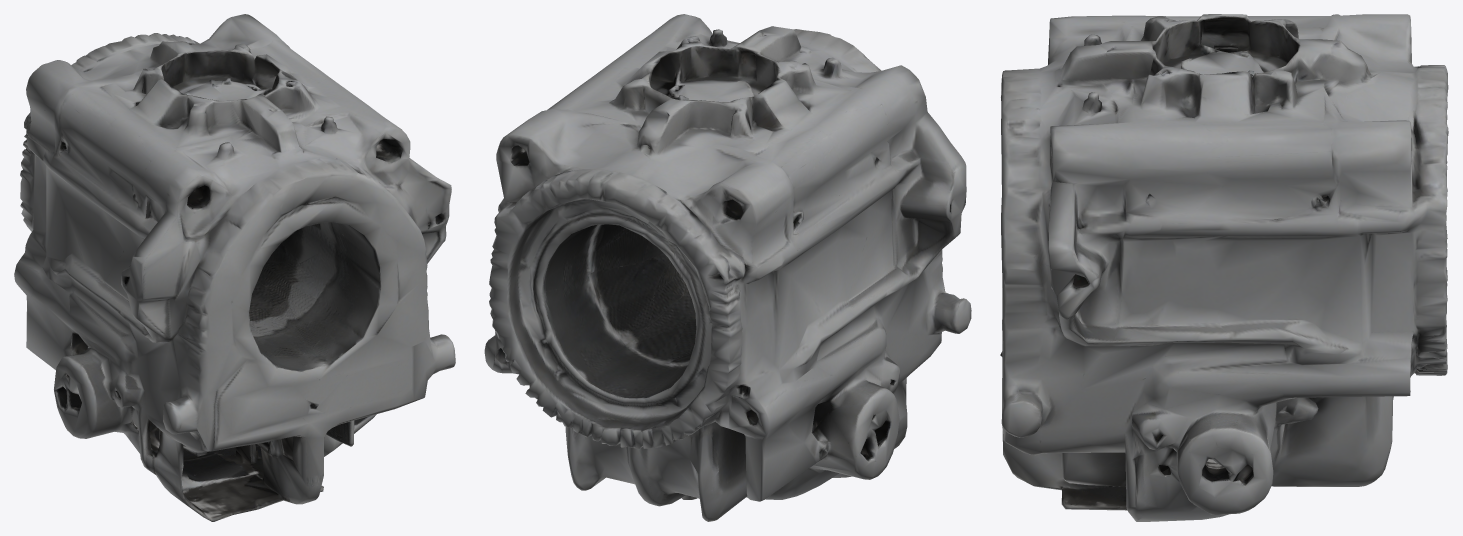
The model's file is crankcase.glb.
The picture shows the model from 3 angles, left to right: view 1: azimuth 30°, elevation 25°; view 2: azimuth 150°, elevation 25°; view 3: azimuth 270°, elevation 25°; orthographic projection. The views are drawn at different scales.
Size of the model in its own units: 1.72 by 2 by 1.82.
Materials: 1 (1 with a texture image).
